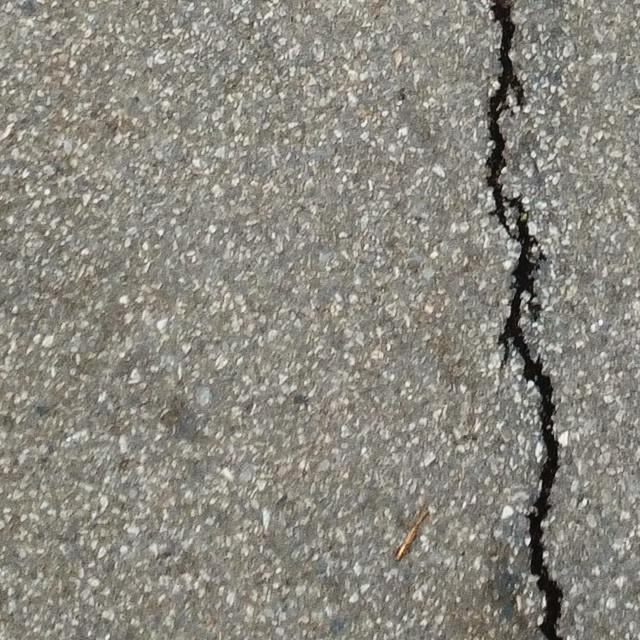LongitudinalCrack: (481, 1, 565, 640)
